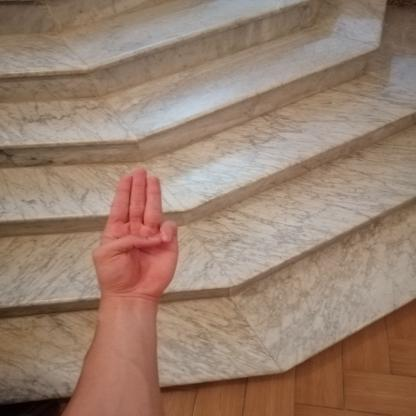THA: (79, 162, 190, 308)
